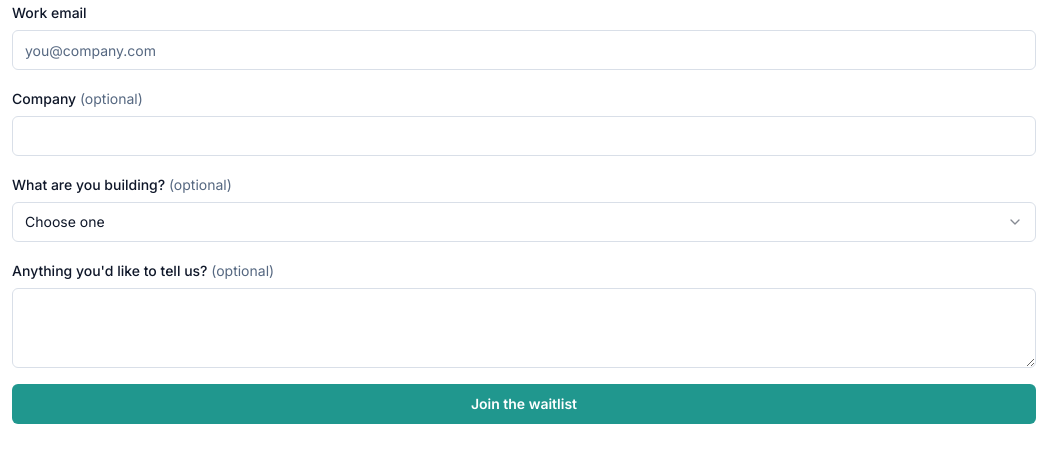
Test: CloudWaitlistForm › rejects an invalid email without sending
Type "not-an-email" into the field labelled "Work email" at (524,50), box [12,30,1036,70]
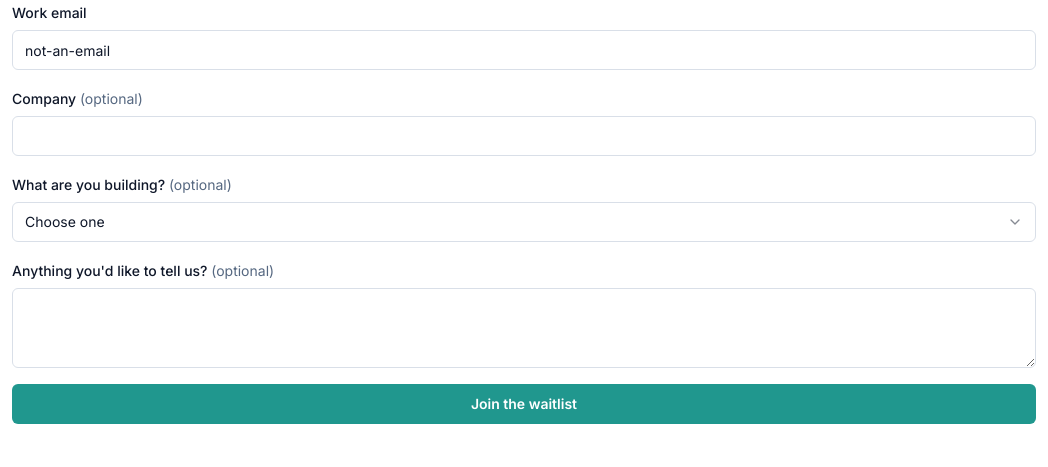
Click the button "Join the waitlist" at (524,404), box [12,384,1036,424]
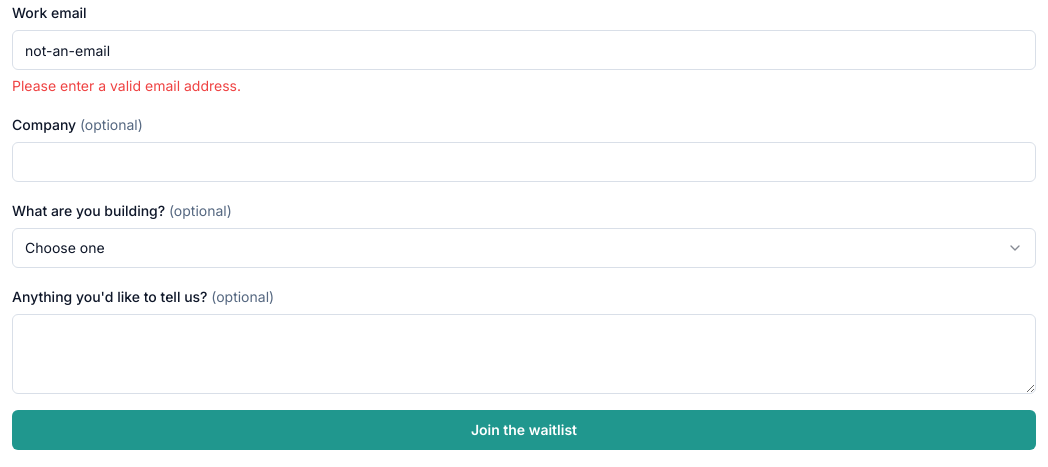
Expected: the text "Please enter a valid email address." is shown, [12,77,241,94]
